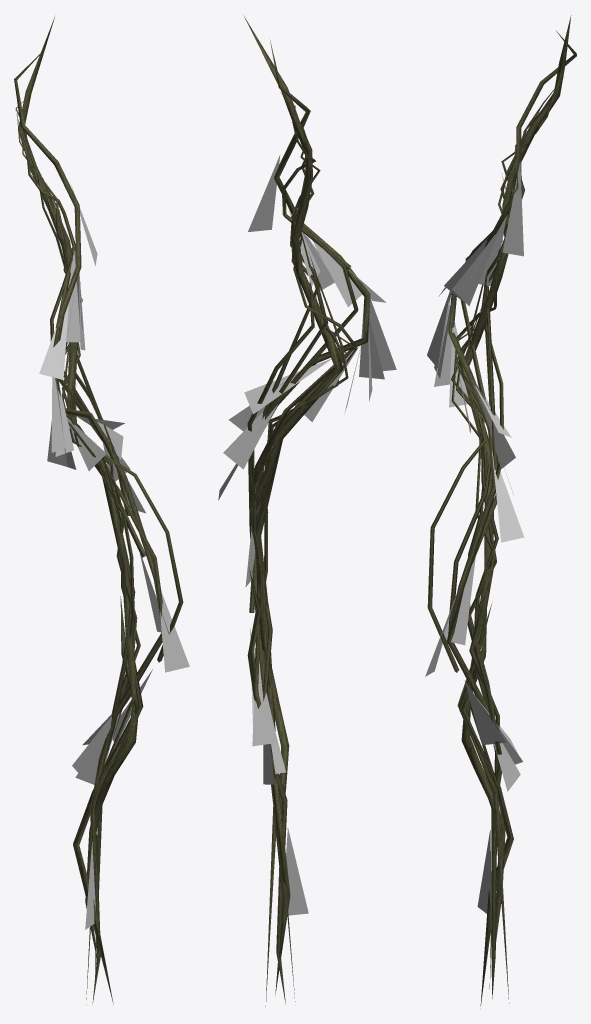
Rendered from Liana3_L4.fbx.
3 views of the same model, side by side, from view 1: azimuth 30°, elevation 25°; view 2: azimuth 150°, elevation 25°; view 3: azimuth 270°, elevation 25° (orthographic). The views are drawn at different scales.
Visible parts, largest first — view 1: polySurface56; view 2: polySurface56; view 3: polySurface56.
Boxes of the visible parts, <box> form: polySurface56: <box>14,17,189,1005</box>; polySurface56: <box>218,15,396,1006</box>; polySurface56: <box>425,15,576,1006</box>.
Bounding box in the file's own units: 216 × 1433 × 199.
